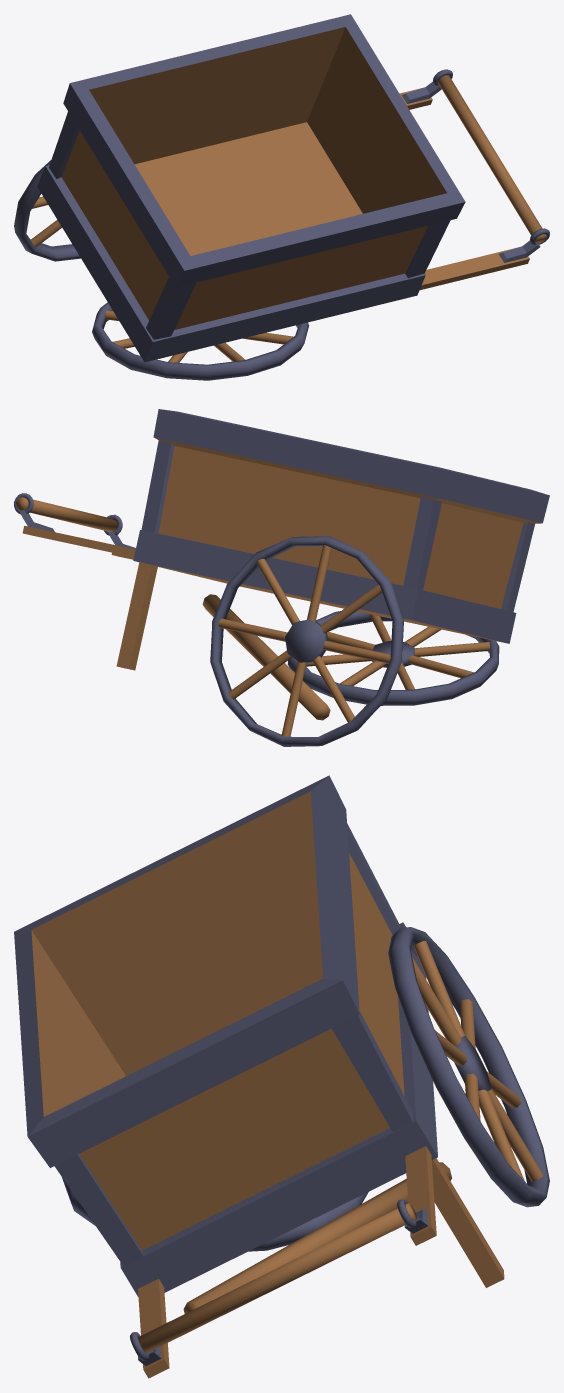
File: BrokenWheelbarrow.fbx
3 renders of one model, top to bottom at view 1: azimuth 30°, elevation 25°; view 2: azimuth 150°, elevation 25°; view 3: azimuth 270°, elevation 25°, orthographic. The views are drawn at different scales.
Visible parts, largest first — view 1: BrokenWheelbarrow; view 2: BrokenWheelbarrow; view 3: BrokenWheelbarrow.
Boxes of the visible parts, <box> form: BrokenWheelbarrow: <box>14,14,549,380</box>; BrokenWheelbarrow: <box>14,409,549,746</box>; BrokenWheelbarrow: <box>14,775,549,1378</box>.
Bounding box in the file's own units: 362 × 206 × 283.
